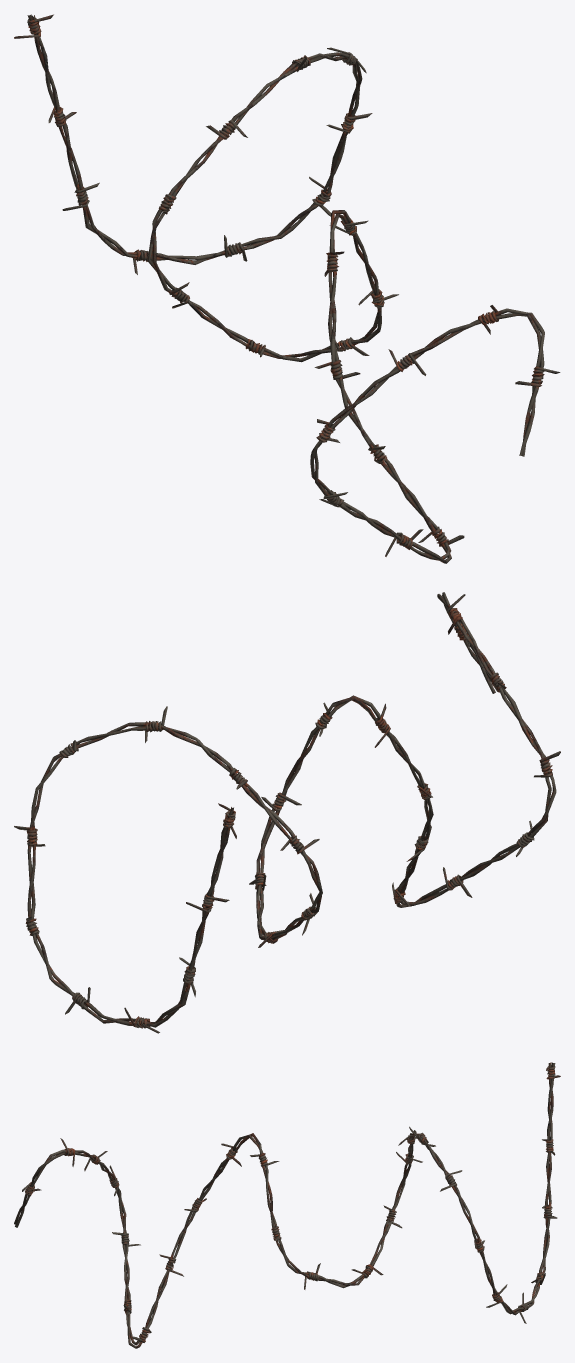
Rendered from SM_BarbedWire01.glb.
3 views of the same model, one above another, from view 1: azimuth 30°, elevation 25°; view 2: azimuth 150°, elevation 25°; view 3: azimuth 270°, elevation 25° (orthographic). The views are drawn at different scales.
Parts seen in each view (by area): view 1: SM_BarbedWire01; view 2: SM_BarbedWire01; view 3: SM_BarbedWire01.
Part boxes in pixels (box(x1,y1,x2,y2)): SM_BarbedWire01: box(14, 14, 560, 563); SM_BarbedWire01: box(14, 592, 560, 1033); SM_BarbedWire01: box(14, 1062, 560, 1348).
Size of the model in its own units: 0.8935 by 0.946 by 1.9.
1 material, 1 textured.
